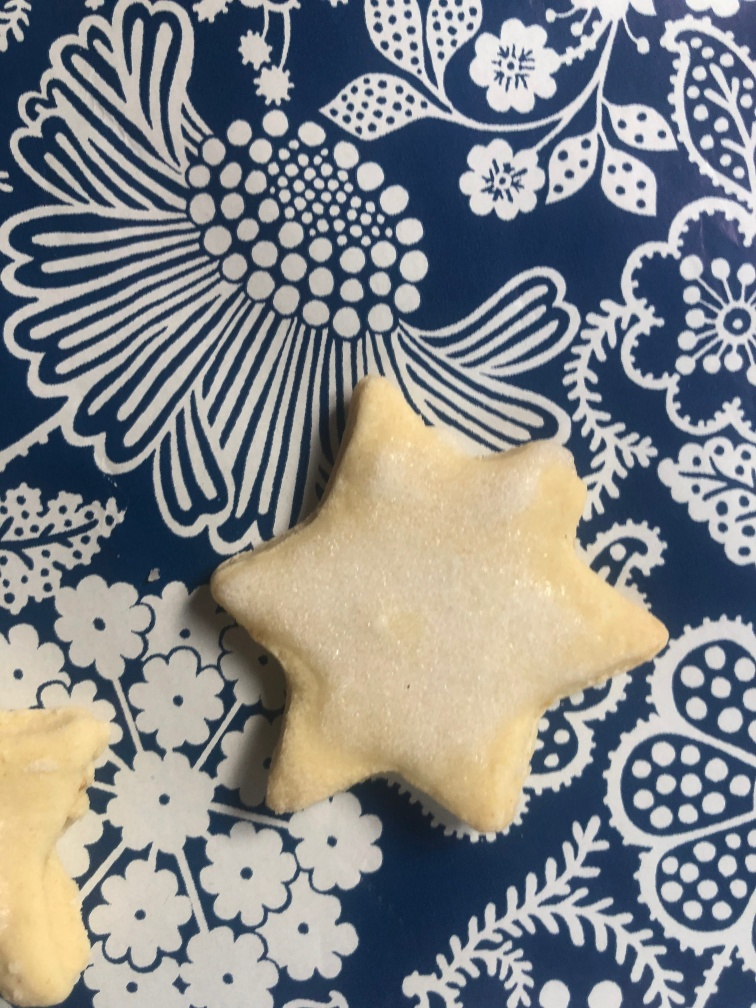star: (208, 365, 672, 842)
